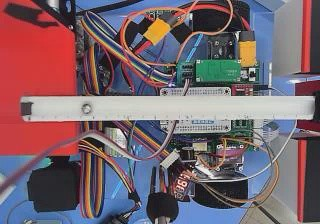ironball: (79, 102, 94, 117)
